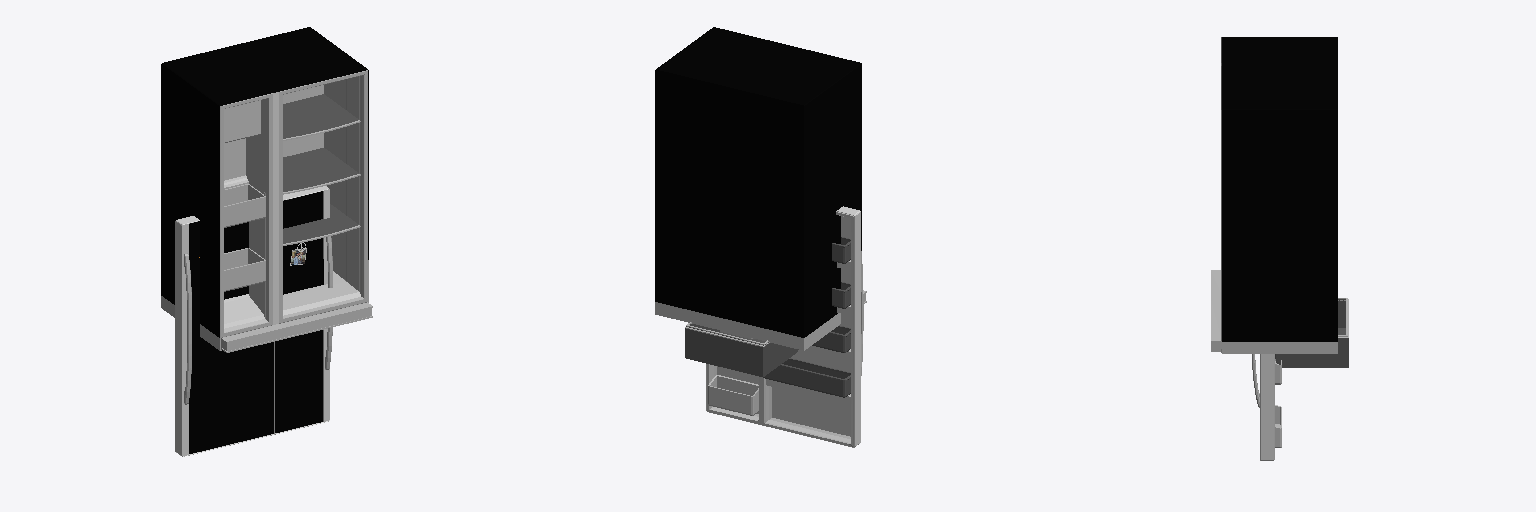
3 renders of one model, left to right at view 1: azimuth 30°, elevation 25°; view 2: azimuth 150°, elevation 25°; view 3: azimuth 270°, elevation 25°, orthographic.
Visible parts, largest first — view 1: FridgeBodyMesh_0, Mesh_4, Mesh_3; view 2: FridgeBodyMesh_0, Mesh_4, fridge_drawer1_22_1, Mesh_3; view 3: FridgeBodyMesh_0, Mesh_3, fridge_drawer1_22_1.
Part boxes in pixels (left/top/right/bottom): FridgeBodyMesh_0: left=161, top=27, right=372, bottom=352; Mesh_4: left=175, top=216, right=274, bottom=456; Mesh_3: left=274, top=186, right=332, bottom=434; FridgeBodyMesh_0: left=655, top=27, right=866, bottom=350; Mesh_4: left=762, top=206, right=863, bottom=447; fridge_drawer1_22_1: left=685, top=326, right=798, bottom=376; Mesh_3: left=706, top=330, right=761, bottom=424; FridgeBodyMesh_0: left=1211, top=37, right=1337, bottom=353; Mesh_3: left=1252, top=354, right=1281, bottom=460; fridge_drawer1_22_1: left=1282, top=299, right=1348, bottom=367.
Size of the model in its own units: 1.41 by 3.02 by 1.01.
7 materials, 1 textured.